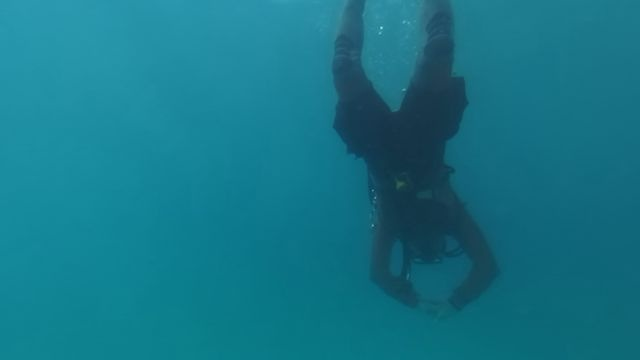Diver: (300, 1, 511, 324)
Hand: (405, 296, 475, 323)
